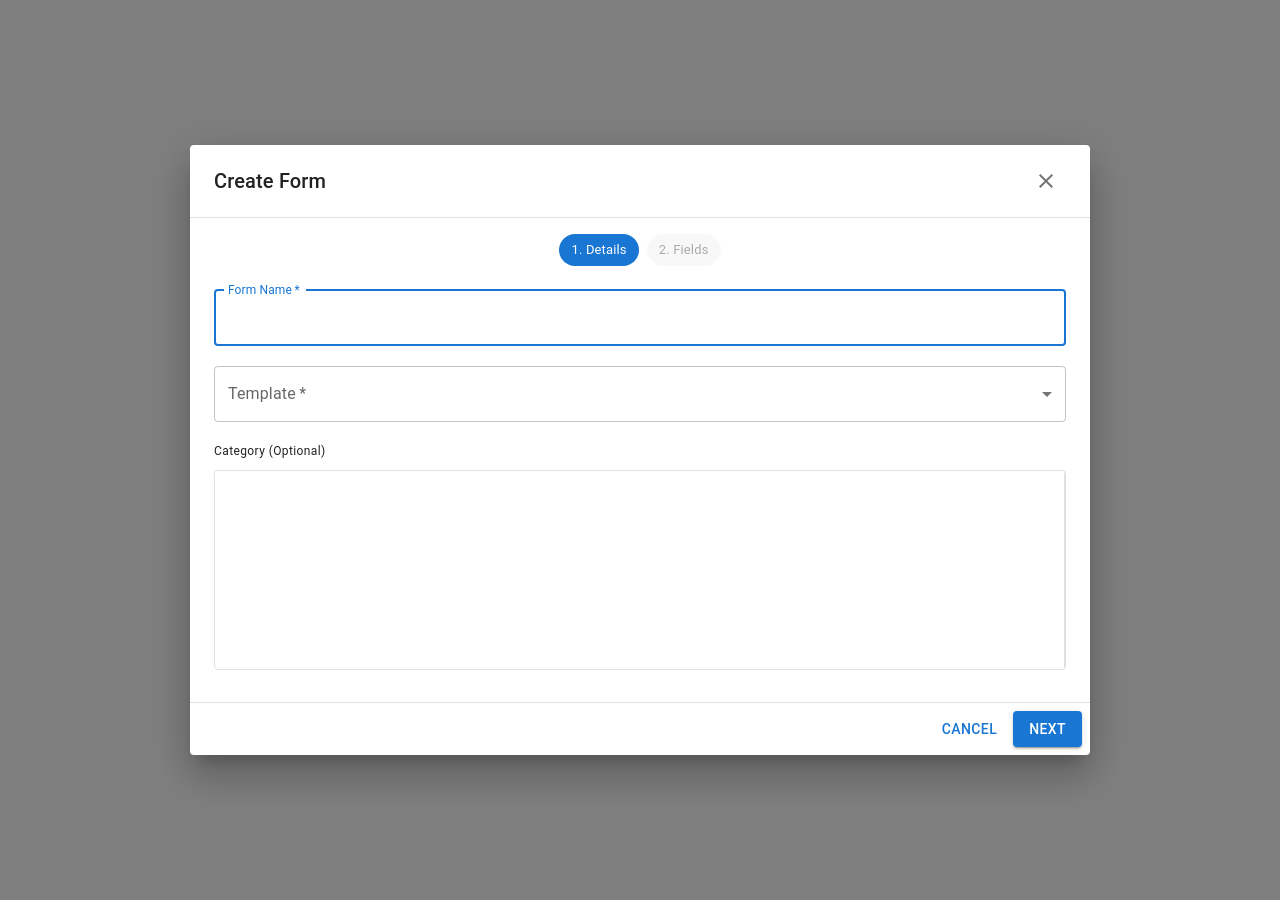
FormWizard › shows validation error when Next clicked with empty form name
Click the button "Next": {"x": 1048, "y": 729} [1013,711,1082,747]
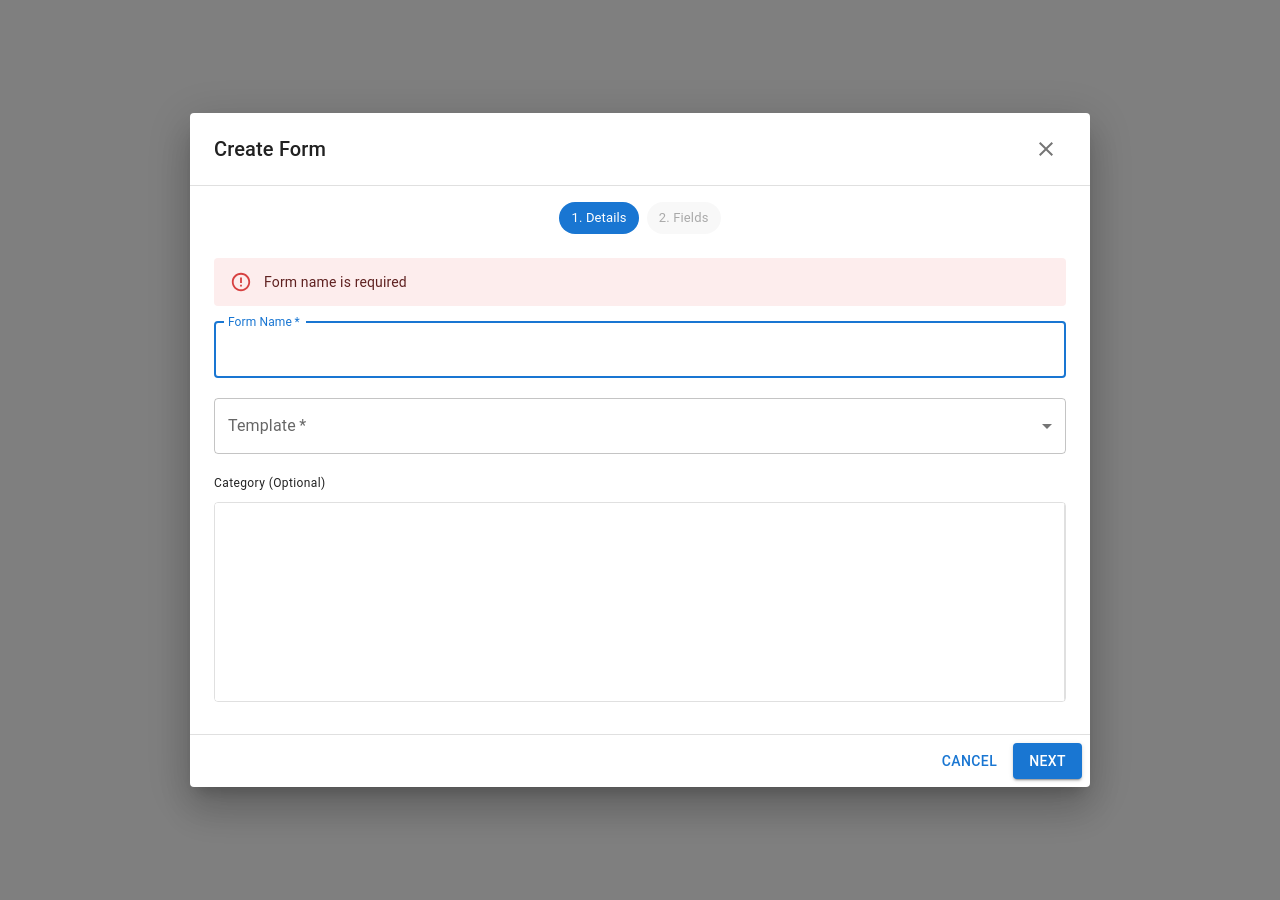
Check: the text "Form name is required" is shown, box [264,274,407,290]
